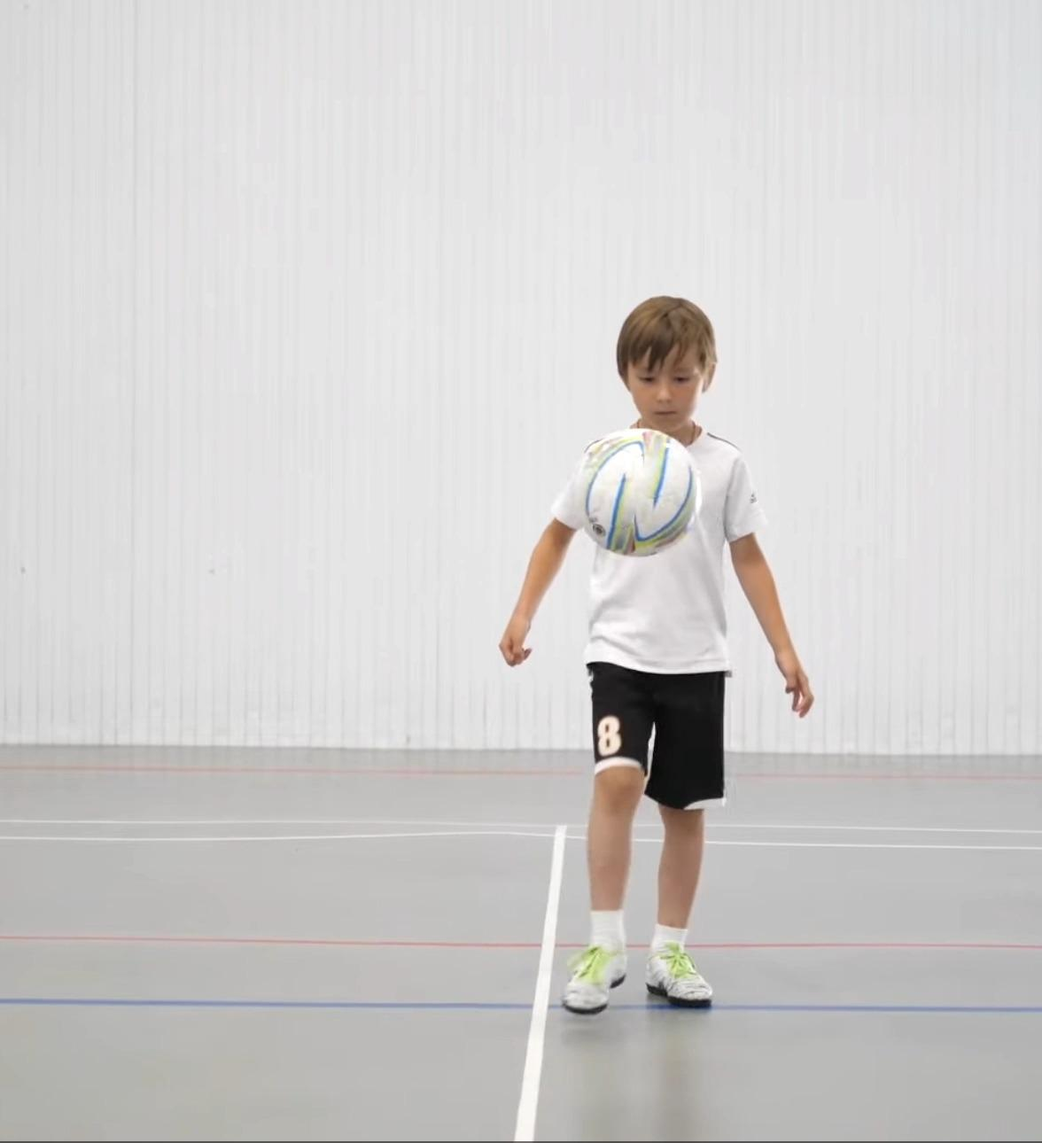ball: (579, 425, 699, 557)
foot: (559, 941, 632, 1020), (639, 946, 715, 1007)
person: (499, 295, 814, 1016)
